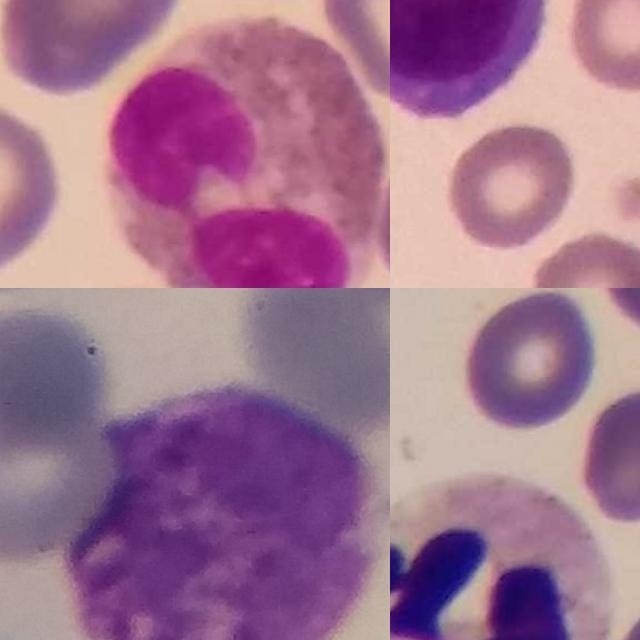Basophil: (67, 381, 371, 640)
Eosinophil: (102, 16, 388, 288)
Lymphocyte: (390, 0, 546, 121)
Neutrophil: (390, 474, 609, 640)
